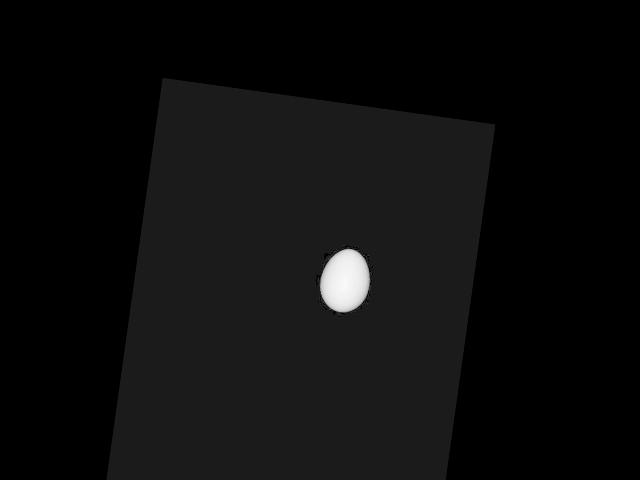egg: (317, 246, 373, 315)
